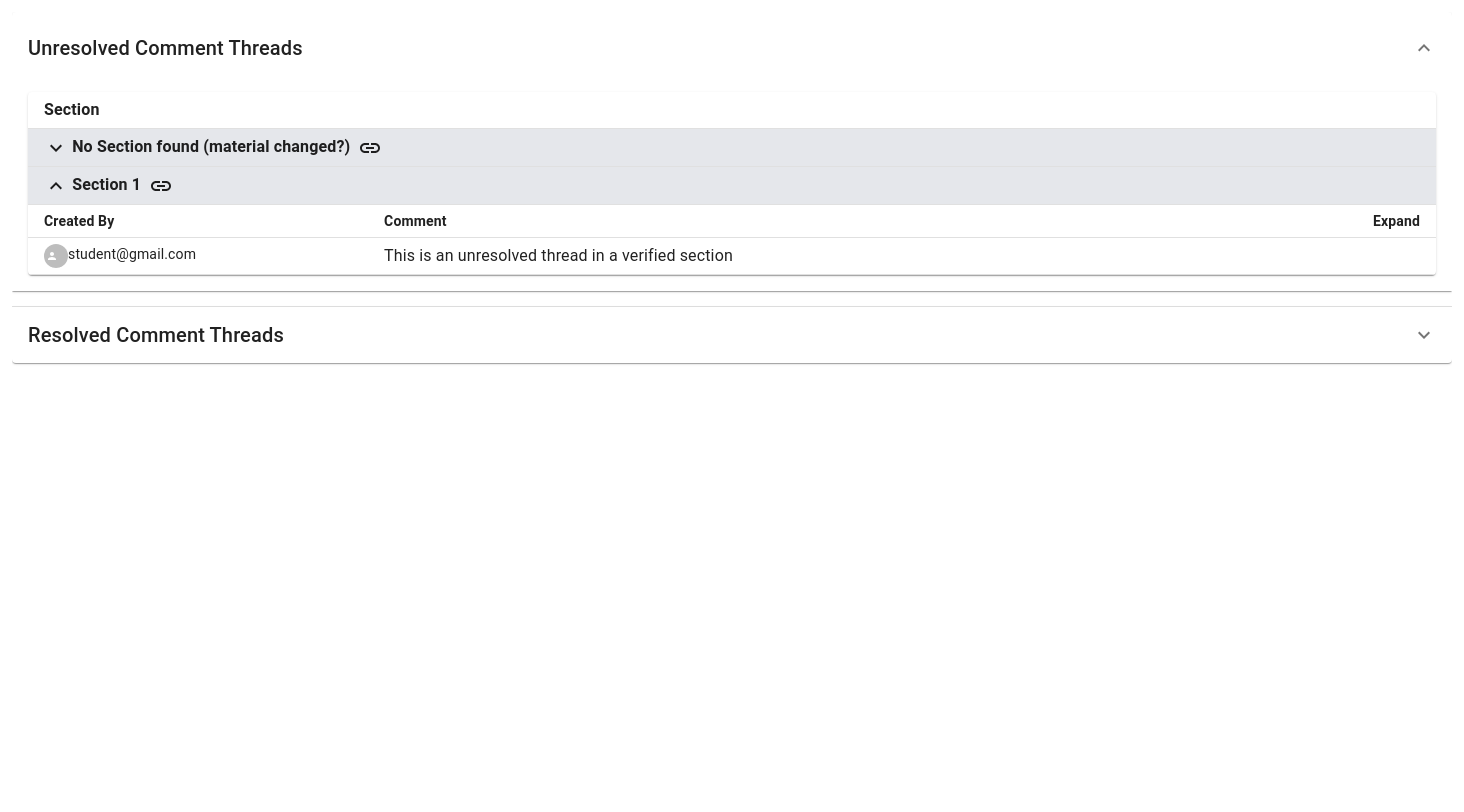
Test case: EventCommentThreads component › For threads associated with a missing section › shows resolved threads when clicked
What coordinates should you click on to do the following:
click the button with test id "resolved-threads-expand"
I would click on:
 (156, 335)
Its box is x1=12 y1=307 x2=1452 y2=363.
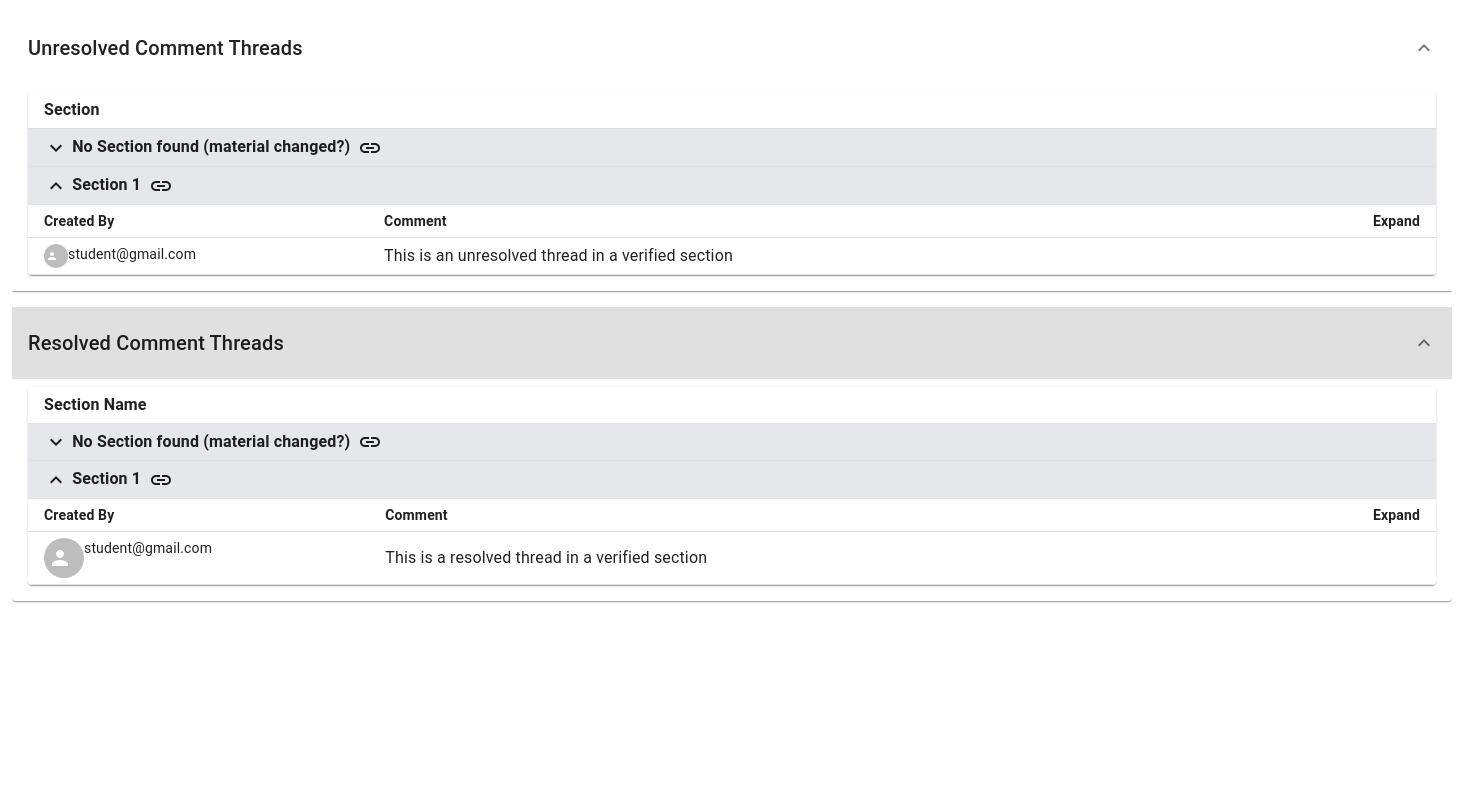
Expected: the row "No Section found (material changed?)" below "Section Name" is shown
What coordinates should you click on to do the following:
click the row "No Section found (material changed?)" below "Section Name"
I would click on:
 (732, 442)
Its box is x1=28 y1=423 x2=1436 y2=461.
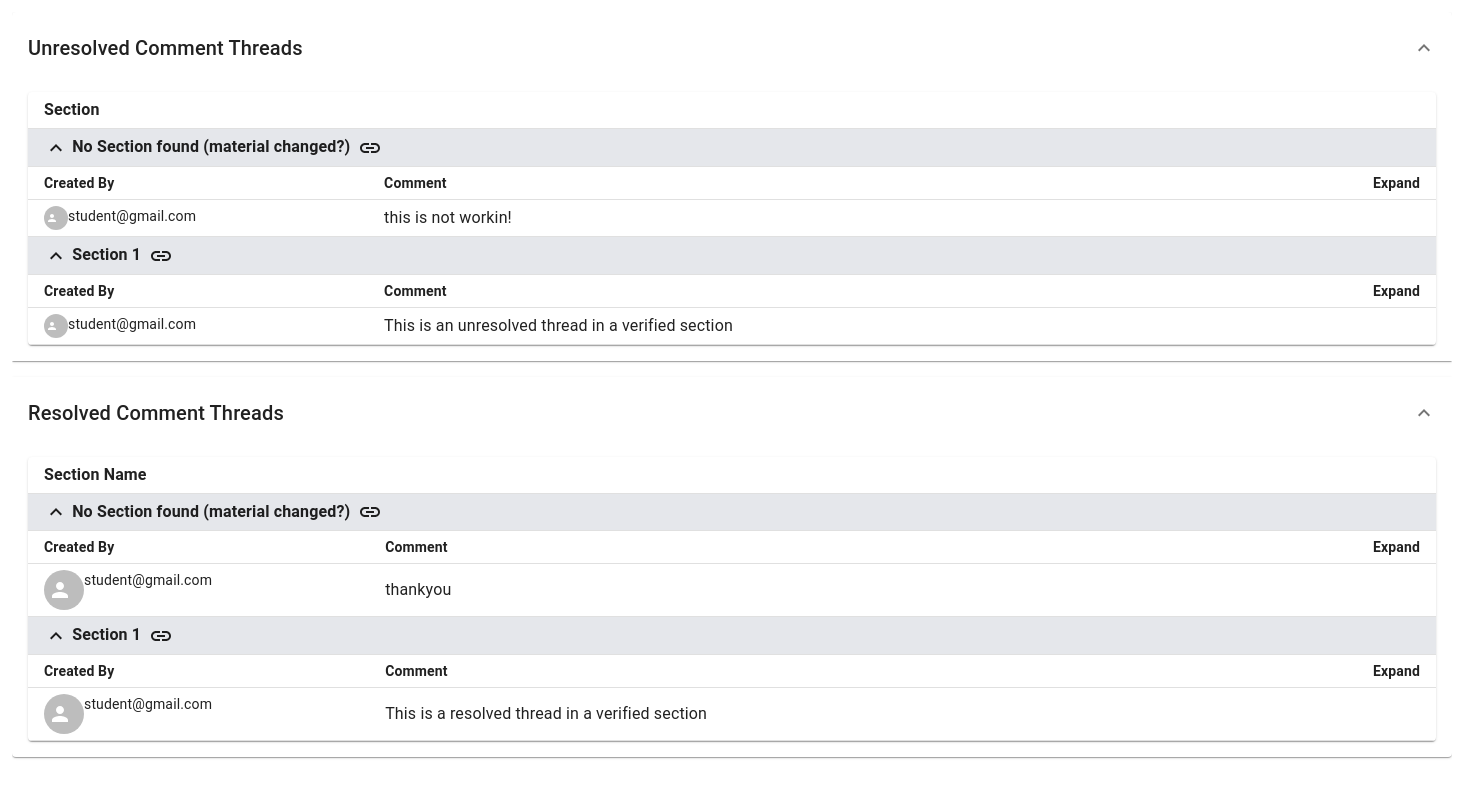
Expected: the link "thankyou" is shown, x1=385 y1=580 x2=452 y2=599
